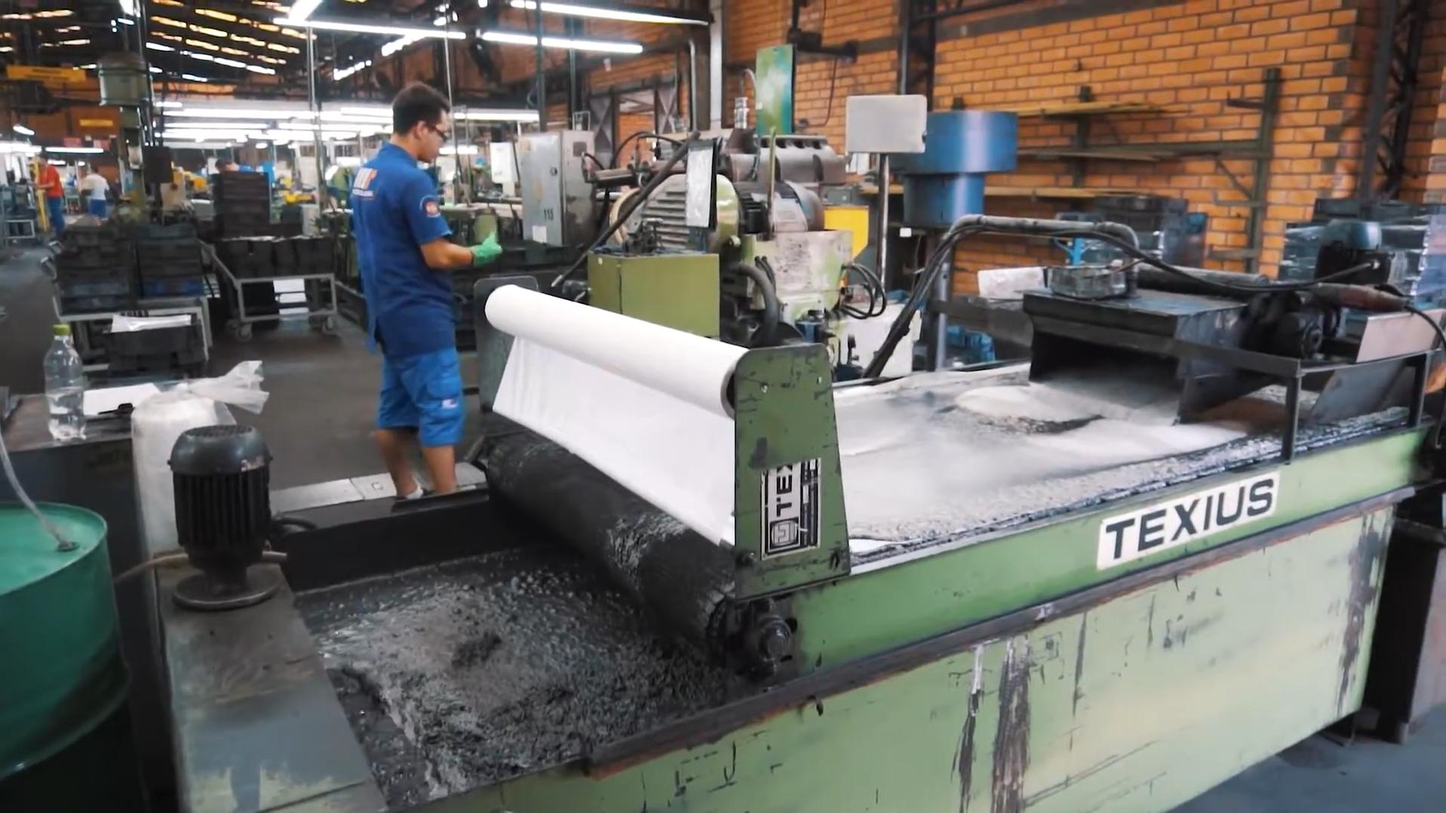gloves: (463, 235, 501, 265)
goggles: (425, 120, 456, 147)
